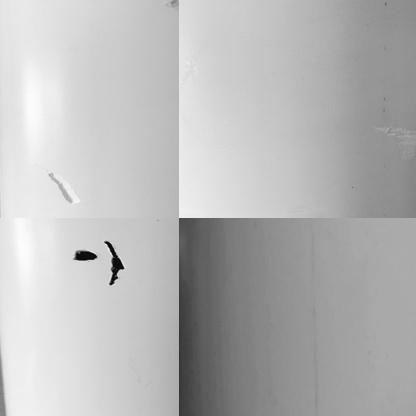kongdong: (103, 239, 127, 288), (72, 248, 98, 263)
sunshang: (42, 166, 83, 207), (373, 123, 415, 160)
